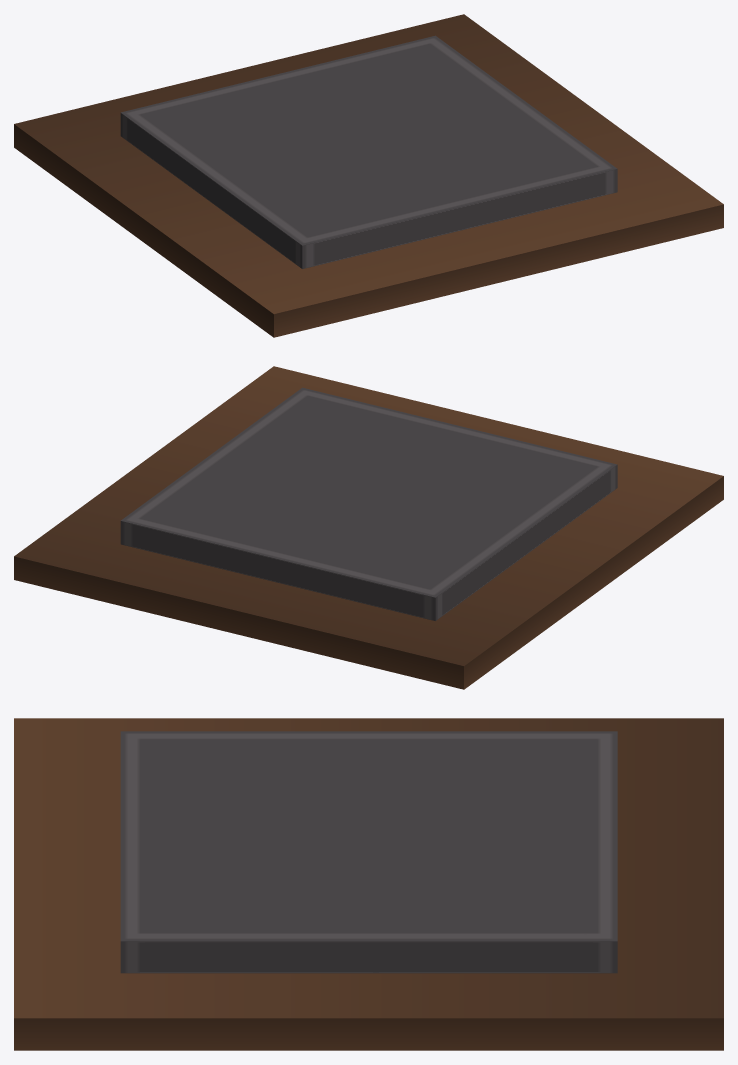
Rendered from KIT_Ceiling_Beam_4x4.glb.
3 views of the same model, one above another, from view 1: azimuth 30°, elevation 25°; view 2: azimuth 150°, elevation 25°; view 3: azimuth 270°, elevation 25° (orthographic). The views are drawn at different scales.
Visible parts, largest first — view 1: KIT_Ceiling_Beam_4x4; view 2: KIT_Ceiling_Beam_4x4; view 3: KIT_Ceiling_Beam_4x4.
Part boxes in pixels (<box>): KIT_Ceiling_Beam_4x4: <box>14,14,723,337</box>; KIT_Ceiling_Beam_4x4: <box>14,366,723,689</box>; KIT_Ceiling_Beam_4x4: <box>14,718,723,1050</box>.
Size of the model in its own units: 4 by 0.4 by 4.
1 material, 1 textured.
